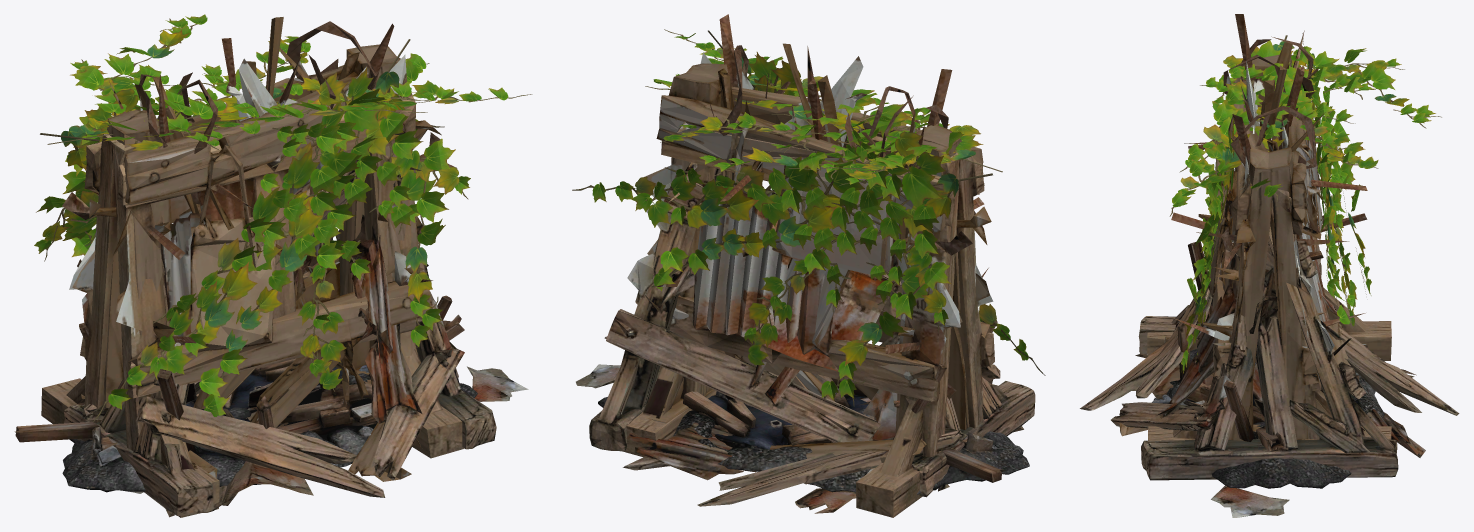
File: P_Tripo02.obj
The picture shows the model from 3 angles, left to right: view 1: azimuth 30°, elevation 25°; view 2: azimuth 150°, elevation 25°; view 3: azimuth 270°, elevation 25°; orthographic projection. The views are drawn at different scales.
Bounding box in the file's own units: 1.03 × 0.8622 × 0.8259.
Materials: 7 (7 with a texture image).
